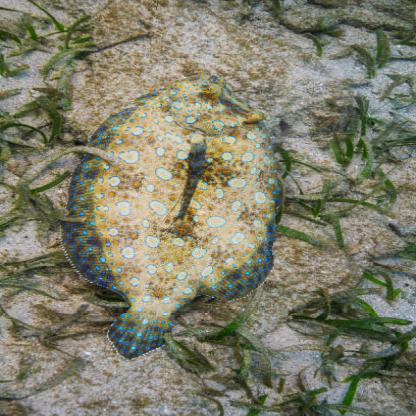flounder: (52, 76, 291, 357)
